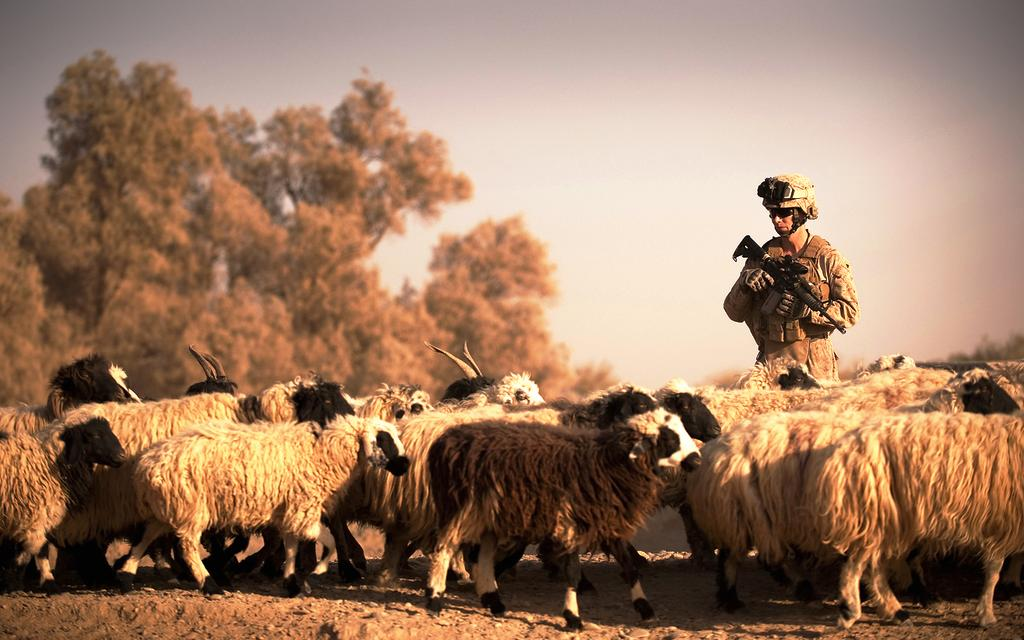Sheep: (427, 416, 695, 636), (130, 416, 410, 596), (814, 414, 1024, 617), (0, 416, 131, 598), (697, 413, 845, 560), (162, 345, 348, 426), (40, 350, 148, 416), (918, 370, 1019, 414), (439, 370, 549, 410), (660, 384, 722, 442), (564, 382, 655, 418), (360, 382, 432, 424)
